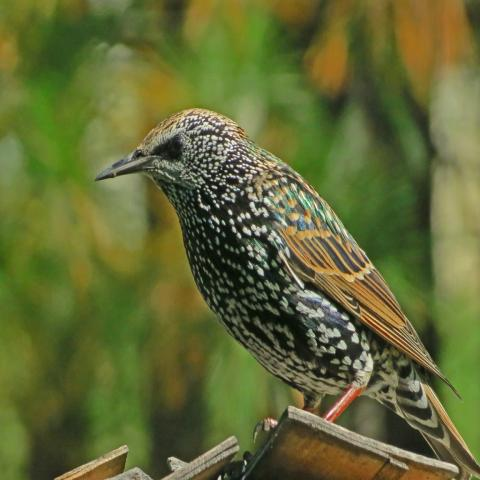bird: (93, 104, 478, 476)
